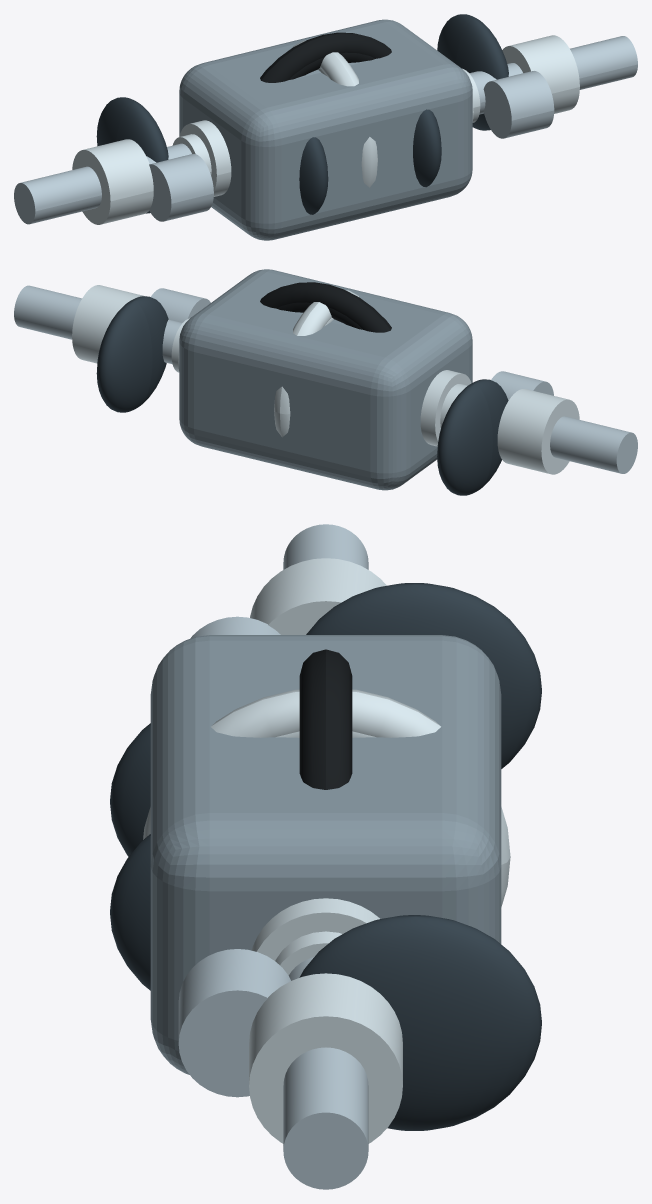
File: g4ed_crank_pistons_rods.glb
3 renders of one model, top to bottom at view 1: azimuth 30°, elevation 25°; view 2: azimuth 150°, elevation 25°; view 3: azimuth 270°, elevation 25°, orthographic. The views are drawn at different scales.
Visible parts, largest first — view 1: asset_mesh__g4ed_048__reference_body, asset_mesh__g4ed_027__axis, asset_mesh__g4ed_027__main_journal_1, asset_mesh__g4ed_027__rod_journal_4, asset_mesh__g4ed_027__rod_journal_1, asset_mesh__g4ed_027__counterweight_4, asset_mesh__g4ed_027__main_journal_5, asset_mesh__g4ed_027__counterweight_1, asset_mesh__g4ed_041__reference_seal, asset_mesh__g4ed_027__counterweight_2, asset_mesh__g4ed_027__counterweight_3, asset_mesh__g4ed_027__main_journal_2 (+3 smaller); view 2: asset_mesh__g4ed_048__reference_body, asset_mesh__g4ed_027__axis, asset_mesh__g4ed_027__counterweight_4, asset_mesh__g4ed_027__counterweight_1, asset_mesh__g4ed_027__main_journal_1, asset_mesh__g4ed_041__reference_seal, asset_mesh__g4ed_027__main_journal_5, asset_mesh__g4ed_027__main_journal_2, asset_mesh__g4ed_039__reference_rim, asset_mesh__g4ed_027__rod_journal_4, asset_mesh__g4ed_027__rod_journal_1, asset_mesh__g4ed_055__reference_axis (+1 smaller); view 3: asset_mesh__g4ed_048__reference_body, asset_mesh__g4ed_027__counterweight_4, asset_mesh__g4ed_027__main_journal_5, asset_mesh__g4ed_027__axis, asset_mesh__g4ed_027__counterweight_1, asset_mesh__g4ed_027__rod_journal_4, asset_mesh__g4ed_041__reference_seal, asset_mesh__g4ed_039__reference_rim, asset_mesh__g4ed_027__main_journal_1, asset_mesh__g4ed_027__counterweight_3, asset_mesh__g4ed_027__counterweight_2, asset_mesh__g4ed_027__main_journal_4 (+2 smaller).
Boxes of the visible parts, box(x1,y1,x2,y2) form: asset_mesh__g4ed_048__reference_body: box(179, 19, 472, 240); asset_mesh__g4ed_027__axis: box(14, 36, 637, 224); asset_mesh__g4ed_027__main_journal_1: box(72, 139, 153, 224); asset_mesh__g4ed_027__rod_journal_4: box(483, 71, 554, 138); asset_mesh__g4ed_027__rod_journal_1: box(149, 154, 213, 221); asset_mesh__g4ed_027__counterweight_4: box(437, 14, 508, 130); asset_mesh__g4ed_027__main_journal_5: box(502, 35, 579, 113); asset_mesh__g4ed_027__counterweight_1: box(96, 97, 168, 213); asset_mesh__g4ed_041__reference_seal: box(260, 32, 391, 82); asset_mesh__g4ed_027__counterweight_2: box(299, 137, 328, 214); asset_mesh__g4ed_027__counterweight_3: box(413, 109, 441, 187); asset_mesh__g4ed_027__main_journal_2: box(179, 120, 231, 196); asset_mesh__g4ed_048__reference_body: box(179, 269, 472, 490); asset_mesh__g4ed_027__axis: box(14, 285, 637, 473); asset_mesh__g4ed_027__counterweight_4: box(96, 296, 168, 412); asset_mesh__g4ed_027__counterweight_1: box(437, 379, 508, 495); asset_mesh__g4ed_027__main_journal_1: box(497, 389, 579, 474); asset_mesh__g4ed_041__reference_seal: box(260, 282, 391, 332); asset_mesh__g4ed_027__main_journal_5: box(72, 285, 144, 363); asset_mesh__g4ed_027__main_journal_2: box(420, 370, 471, 446); asset_mesh__g4ed_039__reference_rim: box(274, 290, 358, 437); asset_mesh__g4ed_027__rod_journal_4: box(151, 288, 210, 322); asset_mesh__g4ed_027__rod_journal_1: box(491, 371, 553, 400); asset_mesh__g4ed_055__reference_axis: box(171, 318, 467, 427); asset_mesh__g4ed_048__reference_body: box(150, 635, 501, 1074); asset_mesh__g4ed_027__counterweight_4: box(299, 915, 541, 1130); asset_mesh__g4ed_027__main_journal_5: box(249, 973, 402, 1143); asset_mesh__g4ed_027__axis: box(283, 524, 368, 1189); asset_mesh__g4ed_027__counterweight_1: box(306, 583, 541, 768); asset_mesh__g4ed_027__rod_journal_4: box(178, 949, 290, 1097); asset_mesh__g4ed_041__reference_seal: box(299, 649, 352, 789); asset_mesh__g4ed_039__reference_rim: box(143, 689, 510, 906); asset_mesh__g4ed_027__main_journal_1: box(250, 558, 386, 634); asset_mesh__g4ed_027__counterweight_3: box(110, 834, 150, 990); asset_mesh__g4ed_027__counterweight_2: box(110, 723, 150, 856); asset_mesh__g4ed_027__main_journal_4: box(252, 898, 379, 960).
Size of the model in its own units: 4.25 by 1.27 by 1.32.
